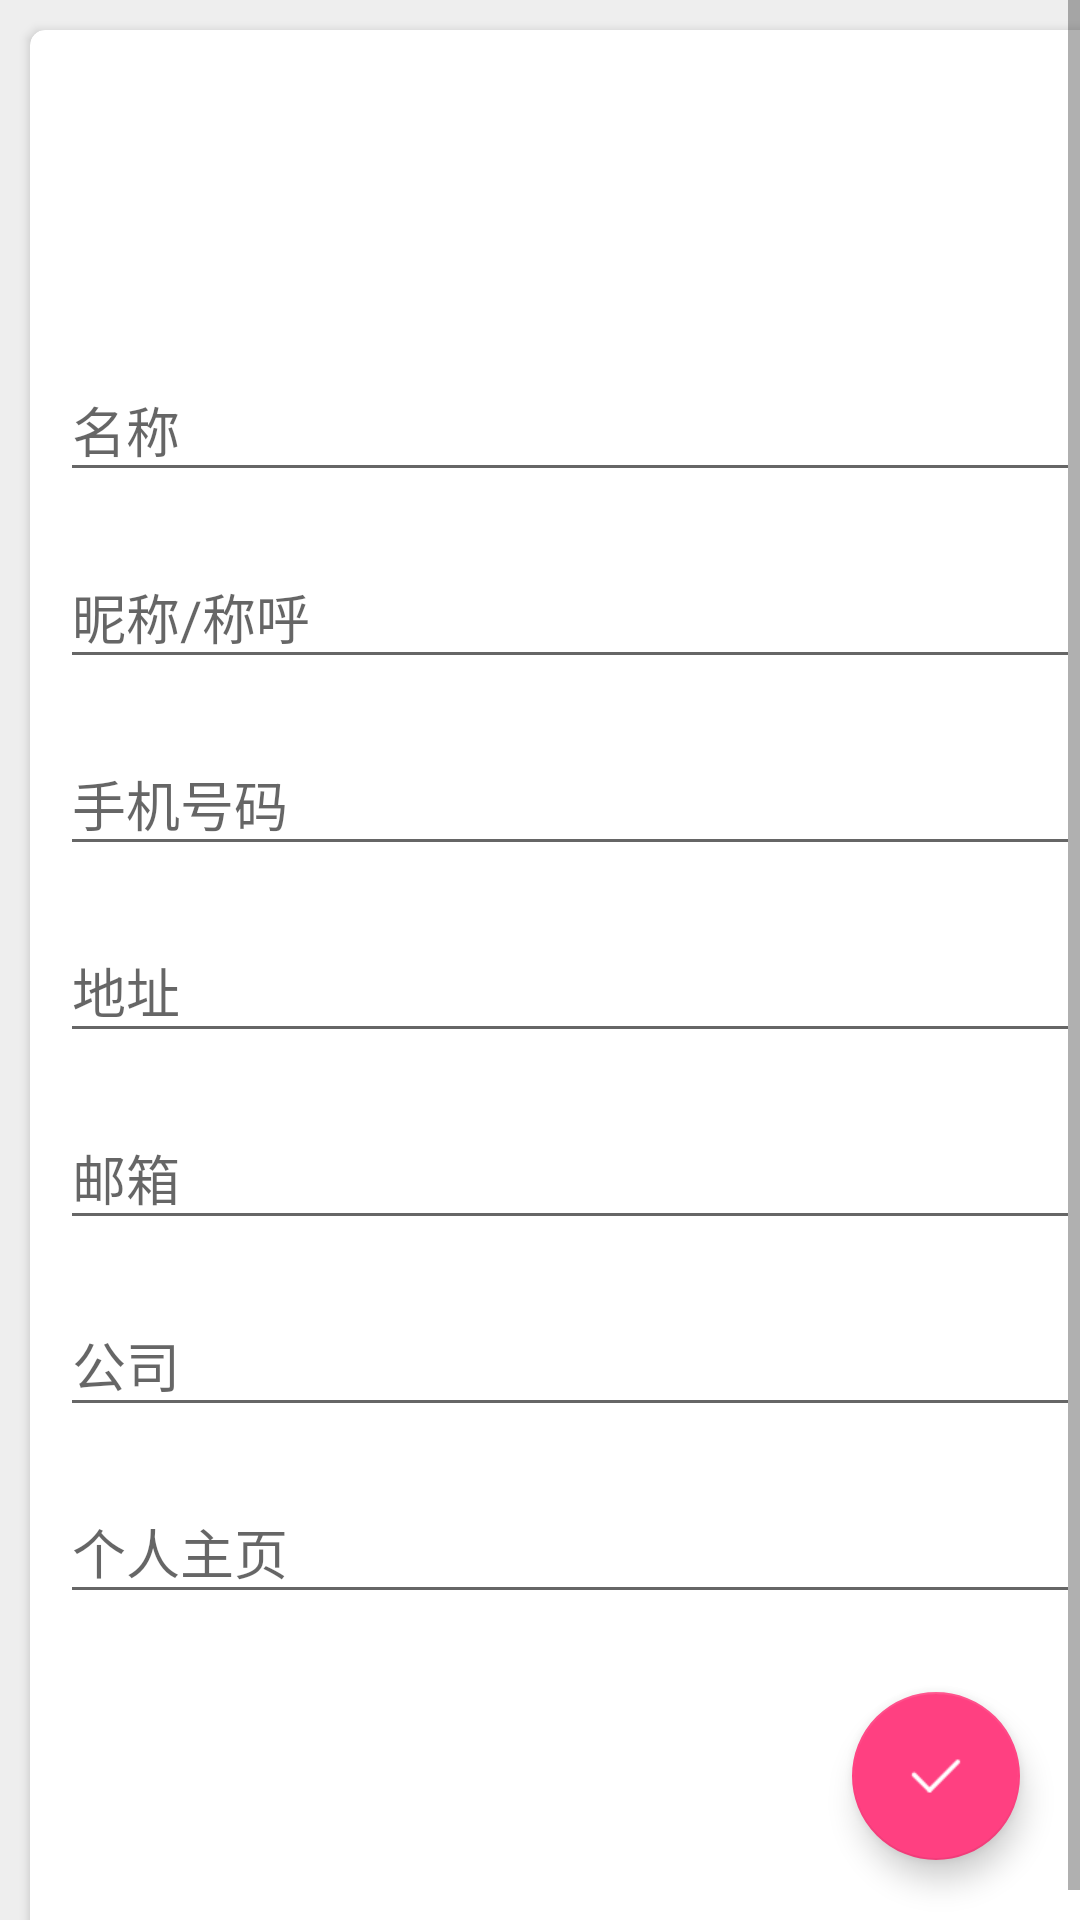

Icon bounding boxes for this 1080x1920 phone screenshot, format (x1, y1, x2, y2):
done: (852, 1692, 1020, 1860)
